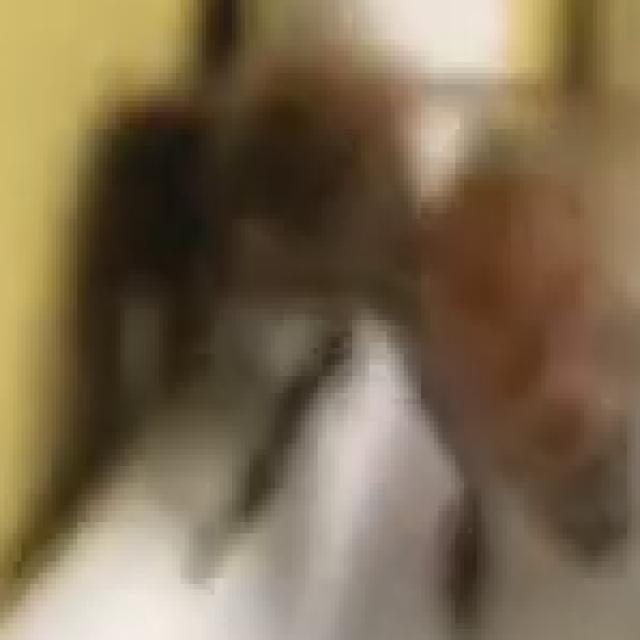honeybee: (45, 4, 640, 630)
